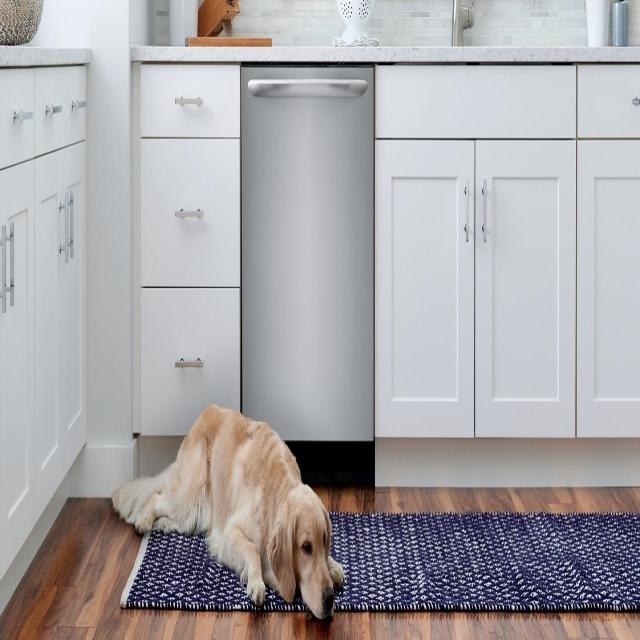dishwasher: (238, 49, 380, 491)
